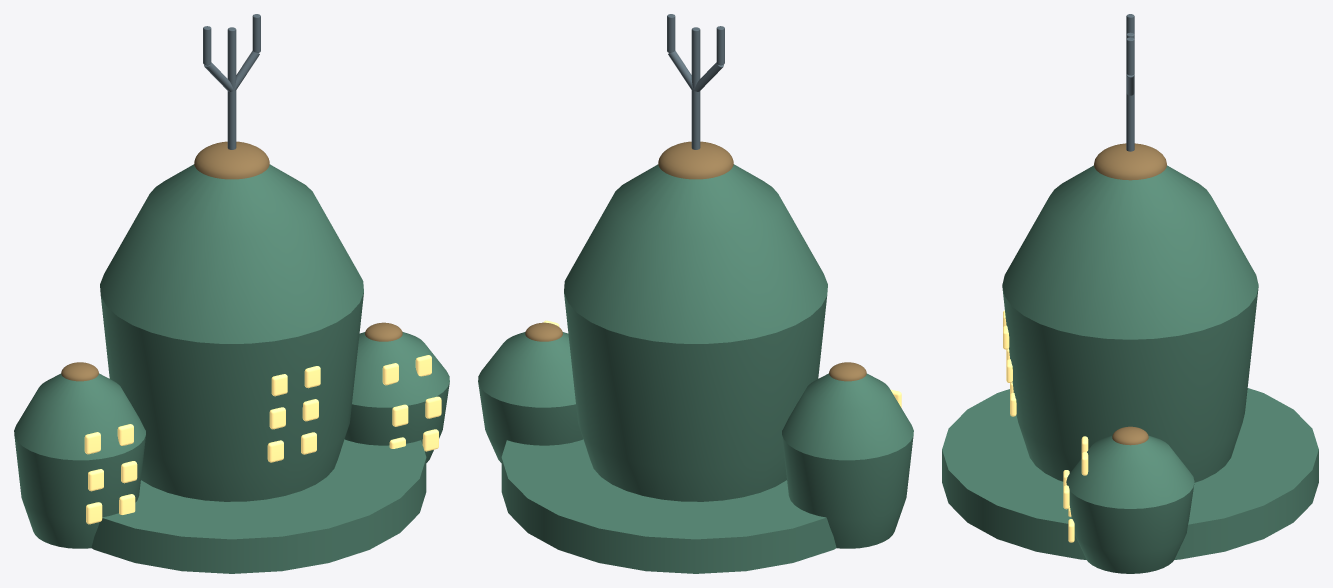
3 views of the same model, side by side, from view 1: azimuth 30°, elevation 25°; view 2: azimuth 150°, elevation 25°; view 3: azimuth 270°, elevation 25° (orthographic). The views are drawn at different scales.
Parts seen in each view (by area): view 1: Bulb shaped chamber, Foundation drum, Bulb shaped chamber.002, Bulb shaped chamber.001, Tower crown, Aerial stem, Tower crown.002, Tower crown.001; view 2: Bulb shaped chamber, Foundation drum, Bulb shaped chamber.002, Bulb shaped chamber.001, Tower crown, Aerial stem, Tower crown.002, Tower crown.001; view 3: Bulb shaped chamber, Foundation drum, Bulb shaped chamber.001, Tower crown, Aerial stem, Tower crown.001.
Boxes of the visible parts, left/top/right/bottom form: Bulb shaped chamber: left=100, top=164, right=363, bottom=501; Foundation drum: left=91, top=439, right=426, bottom=573; Bulb shaped chamber.002: left=14, top=373, right=145, bottom=548; Bulb shaped chamber.001: left=344, top=332, right=449, bottom=462; Tower crown: left=194, top=141, right=269, bottom=179; Aerial stem: left=227, top=27, right=236, bottom=149; Tower crown.002: left=61, top=362, right=98, bottom=381; Tower crown.001: left=365, top=322, right=402, bottom=341; Bulb shaped chamber: left=564, top=164, right=827, bottom=501; Foundation drum: left=501, top=439, right=836, bottom=573; Bulb shaped chamber.002: left=782, top=373, right=913, bottom=548; Bulb shaped chamber.001: left=478, top=332, right=583, bottom=462; Tower crown: left=658, top=141, right=733, bottom=179; Aerial stem: left=691, top=27, right=700, bottom=149; Tower crown.002: left=829, top=362, right=866, bottom=381; Tower crown.001: left=525, top=322, right=562, bottom=341; Bulb shaped chamber: left=1002, top=165, right=1258, bottom=482; Foundation drum: left=942, top=388, right=1318, bottom=559; Bulb shaped chamber.001: left=1066, top=435, right=1194, bottom=573; Tower crown: left=1094, top=143, right=1166, bottom=180; Aerial stem: left=1126, top=32, right=1134, bottom=151; Tower crown.001: left=1112, top=426, right=1148, bottom=445.
Size of the model in its own units: 2.53 by 2.72 by 2.04.
